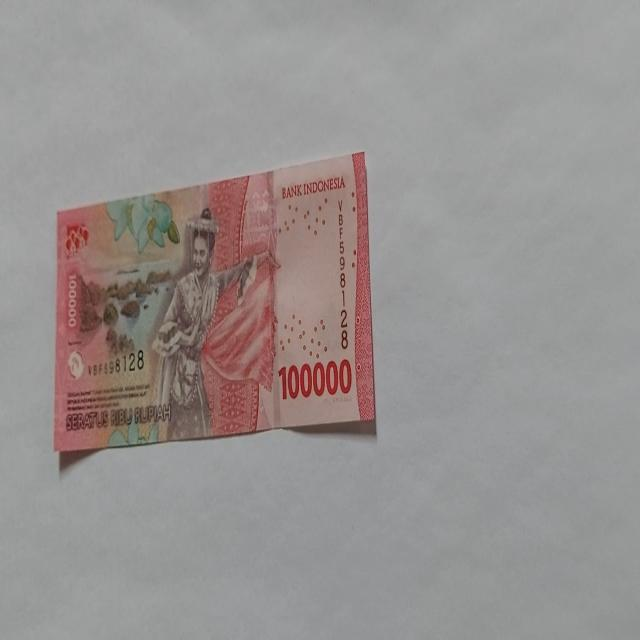seratus ribu rupiah: (53, 150, 377, 453), (150, 205, 274, 439)
